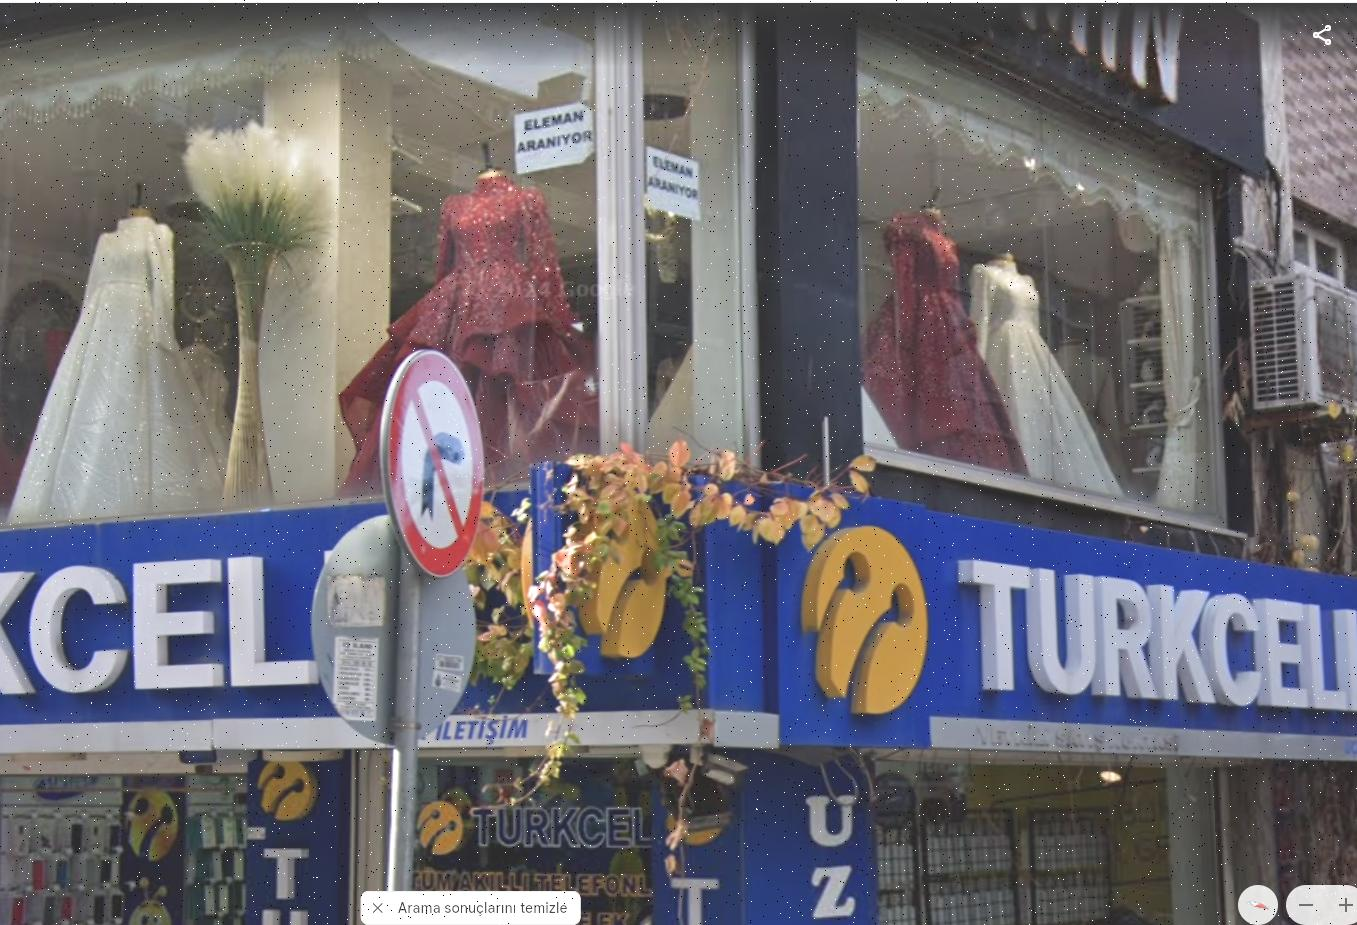rightturnsareforbidden: (383, 350, 489, 573)
